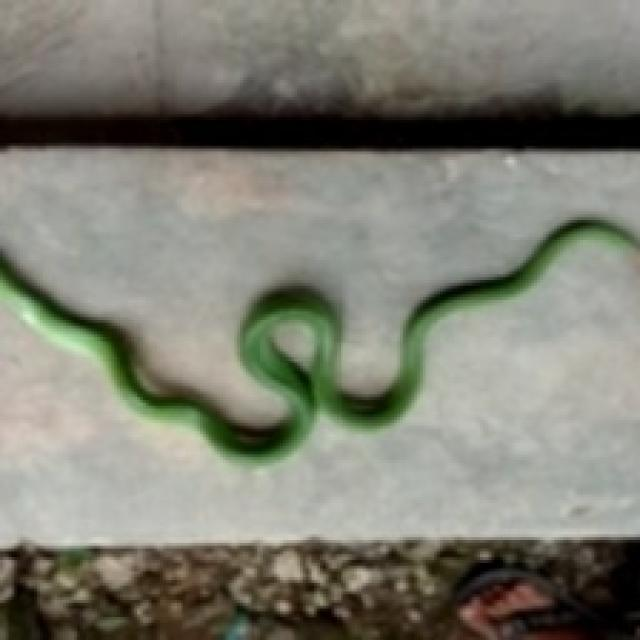red-tailed green ratsnake: (0, 220, 640, 461)
